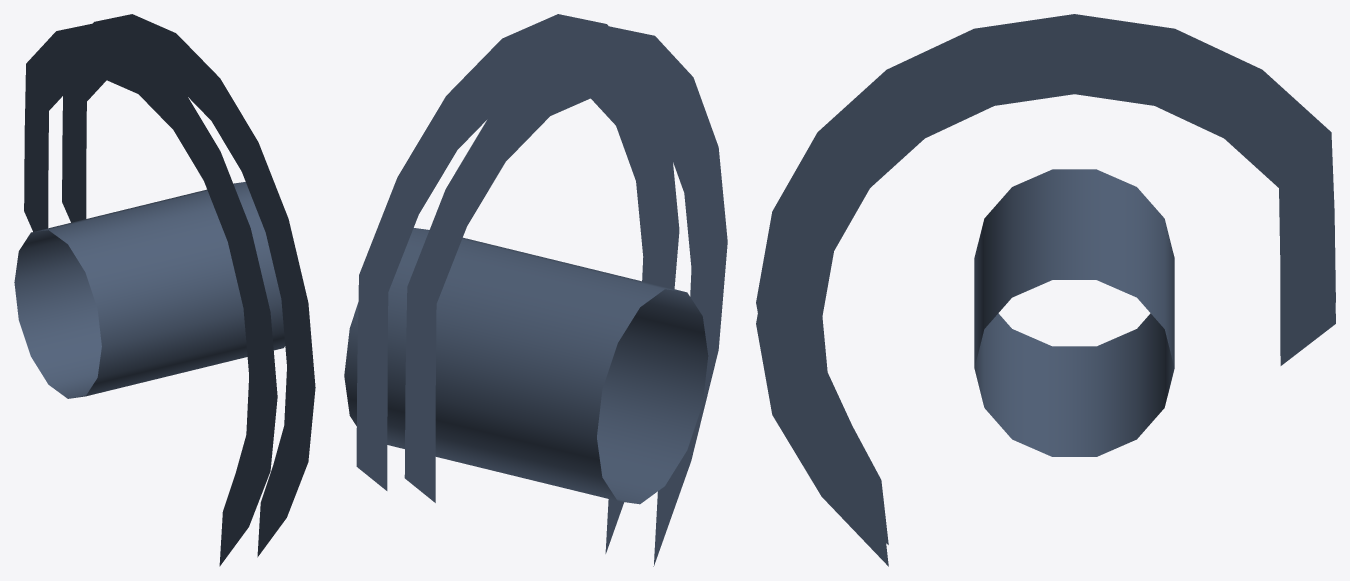
The model's file is mech 1 dynamic lod2.FBX.
The picture shows the model from 3 angles, left to right: view 1: azimuth 30°, elevation 25°; view 2: azimuth 150°, elevation 25°; view 3: azimuth 270°, elevation 25°; orthographic projection. The views are drawn at different scales.
Visible parts, largest first — view 1: Object1060; view 2: Object1060; view 3: Object1060.
Part boxes in pixels (box(x1,y1,x2,y2)): Object1060: box(14, 14, 315, 566); Object1060: box(344, 14, 727, 566); Object1060: box(756, 14, 1335, 566).
Size of the model in its own units: 0.7327 by 1.64 by 1.62.
